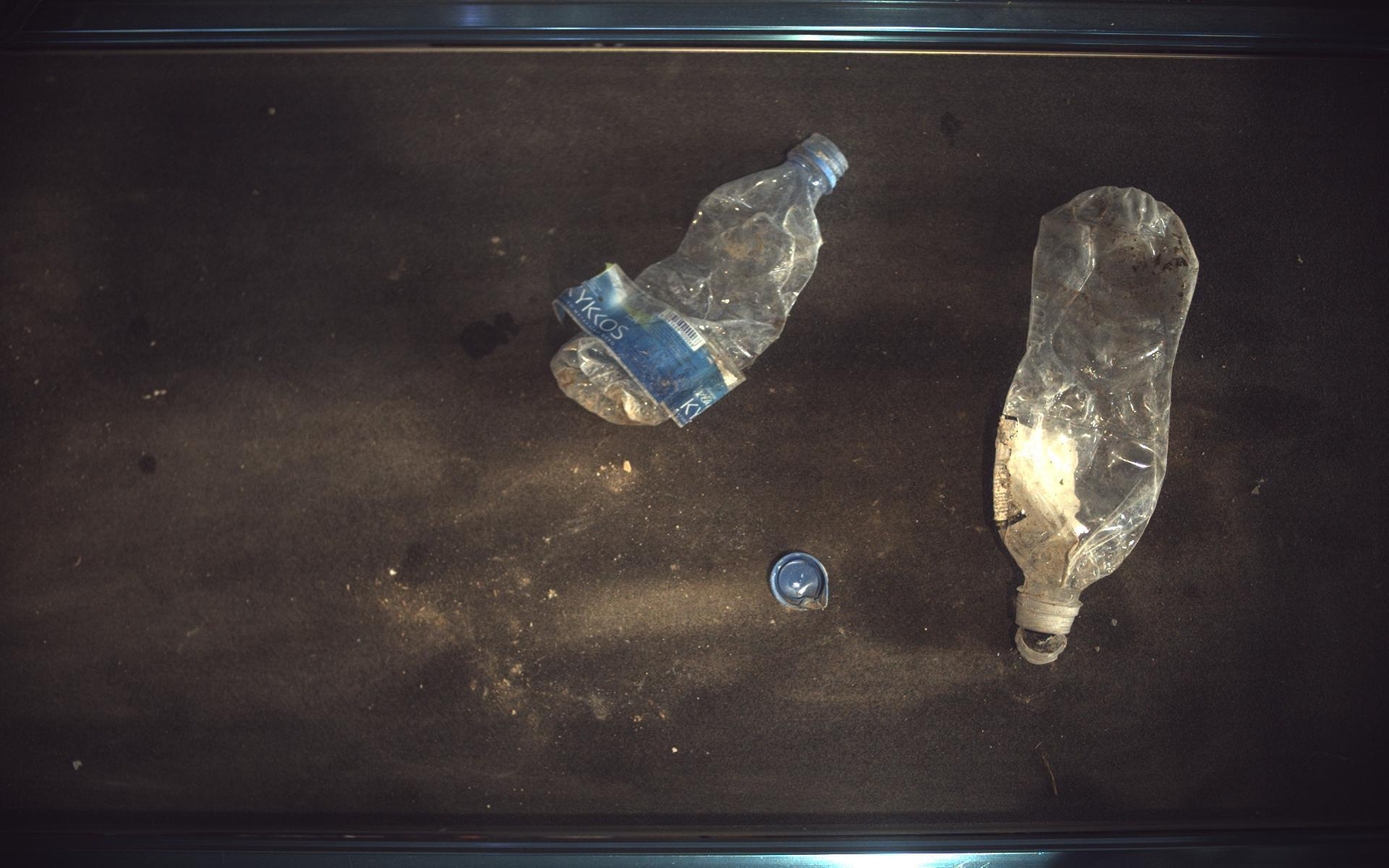general_w: (995, 186, 1201, 665), (552, 133, 849, 426), (771, 553, 829, 612)
